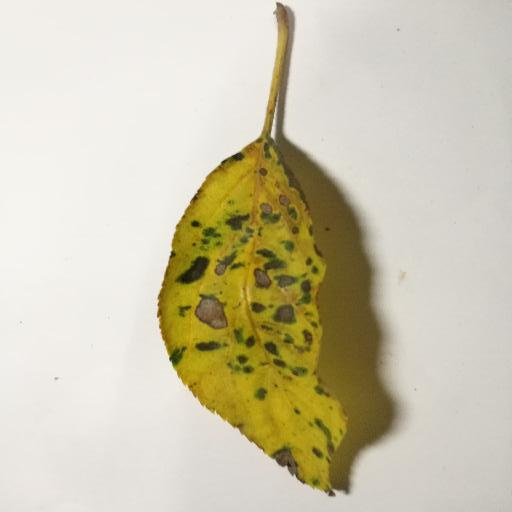Brown_Spot: (263, 451, 300, 486), (198, 298, 229, 329), (305, 323, 325, 353), (255, 164, 275, 188), (257, 197, 275, 223), (277, 187, 295, 208), (252, 266, 268, 289), (277, 309, 296, 322), (218, 262, 234, 276)
